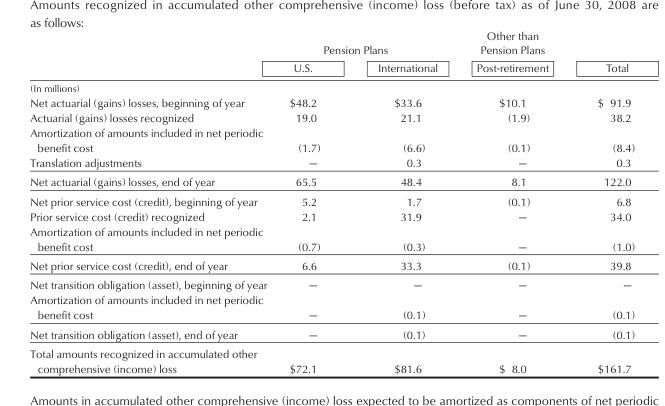table: (29, 29, 634, 374)
table column: (29, 29, 277, 374), (456, 29, 572, 374), (348, 29, 456, 374), (277, 29, 348, 374), (572, 29, 634, 374)
table column header: (29, 29, 634, 94)
table row: (29, 58, 634, 94), (29, 223, 634, 255), (29, 292, 634, 324), (29, 343, 634, 374), (29, 124, 634, 154), (29, 29, 634, 58), (29, 172, 634, 191), (29, 255, 634, 274), (29, 324, 634, 343), (29, 154, 634, 172), (29, 274, 634, 292), (29, 191, 634, 208), (29, 94, 634, 109), (29, 109, 634, 124), (29, 208, 634, 223)
table spanning cell: (29, 29, 277, 94), (456, 29, 572, 94), (277, 29, 456, 58), (572, 29, 634, 94)
